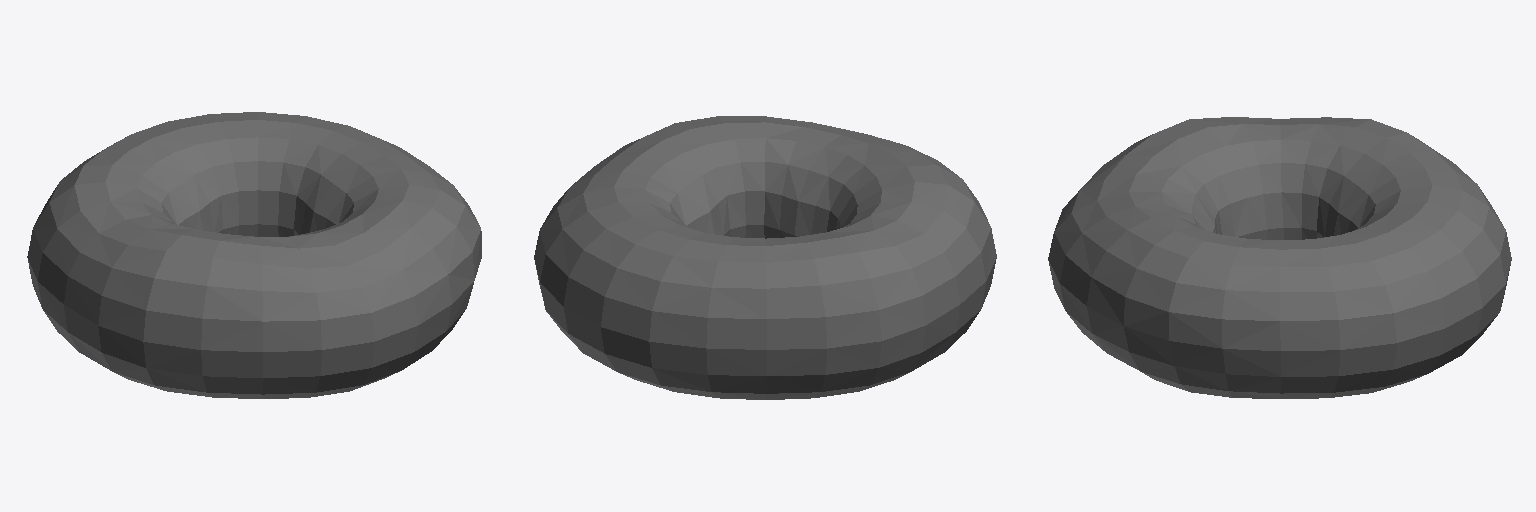
File: donut.obj
The picture shows the model from 3 angles: view 1: azimuth 30°, elevation 25°; view 2: azimuth 150°, elevation 25°; view 3: azimuth 270°, elevation 25°; orthographic projection.
Parts seen in each view (by area): view 1: donut_4_04; view 2: donut_4_04; view 3: donut_4_04.
Boxes of the visible parts, <box> form: donut_4_04: <box>27,112,481,398</box>; donut_4_04: <box>534,116,996,399</box>; donut_4_04: <box>1048,117,1511,398</box>.
Bounding box in the file's own units: 1.46 × 0.543 × 1.53.